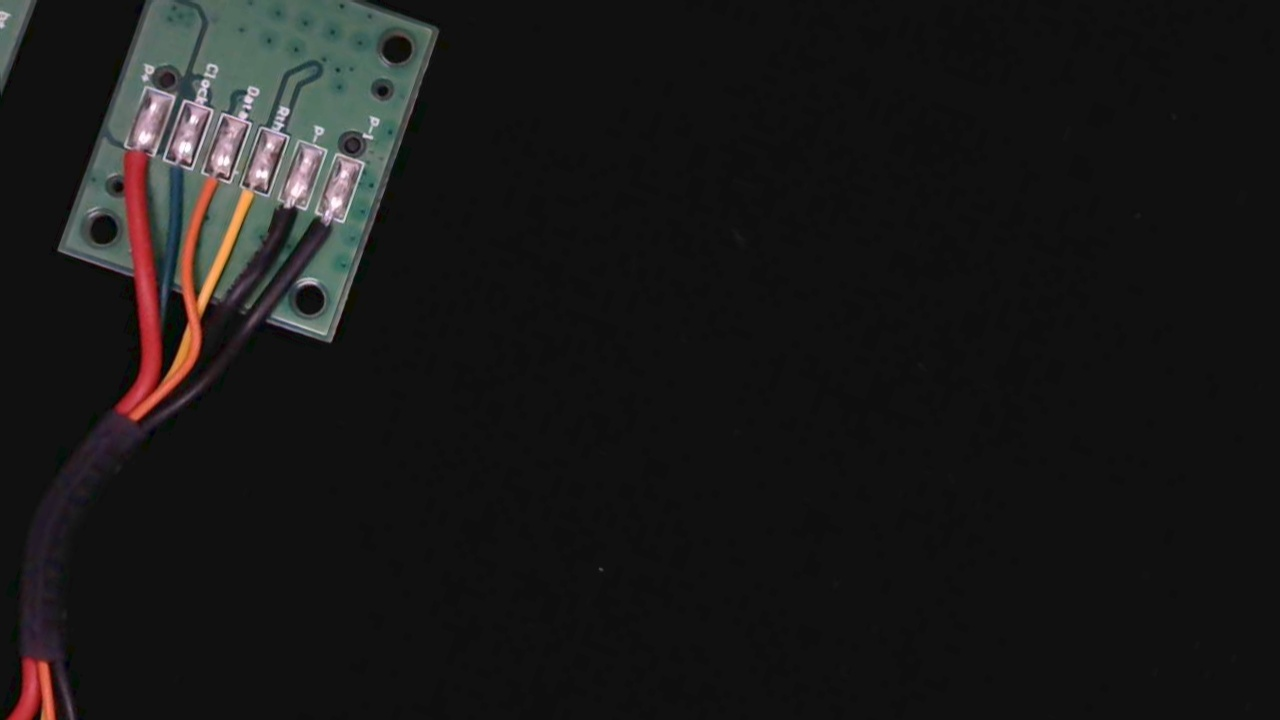Black: (258, 184, 309, 254)
Black1: (295, 198, 349, 273)
Green: (141, 140, 198, 218)
Orange: (179, 155, 234, 234)
Red: (105, 127, 162, 205)
Yellow: (216, 168, 275, 250)
